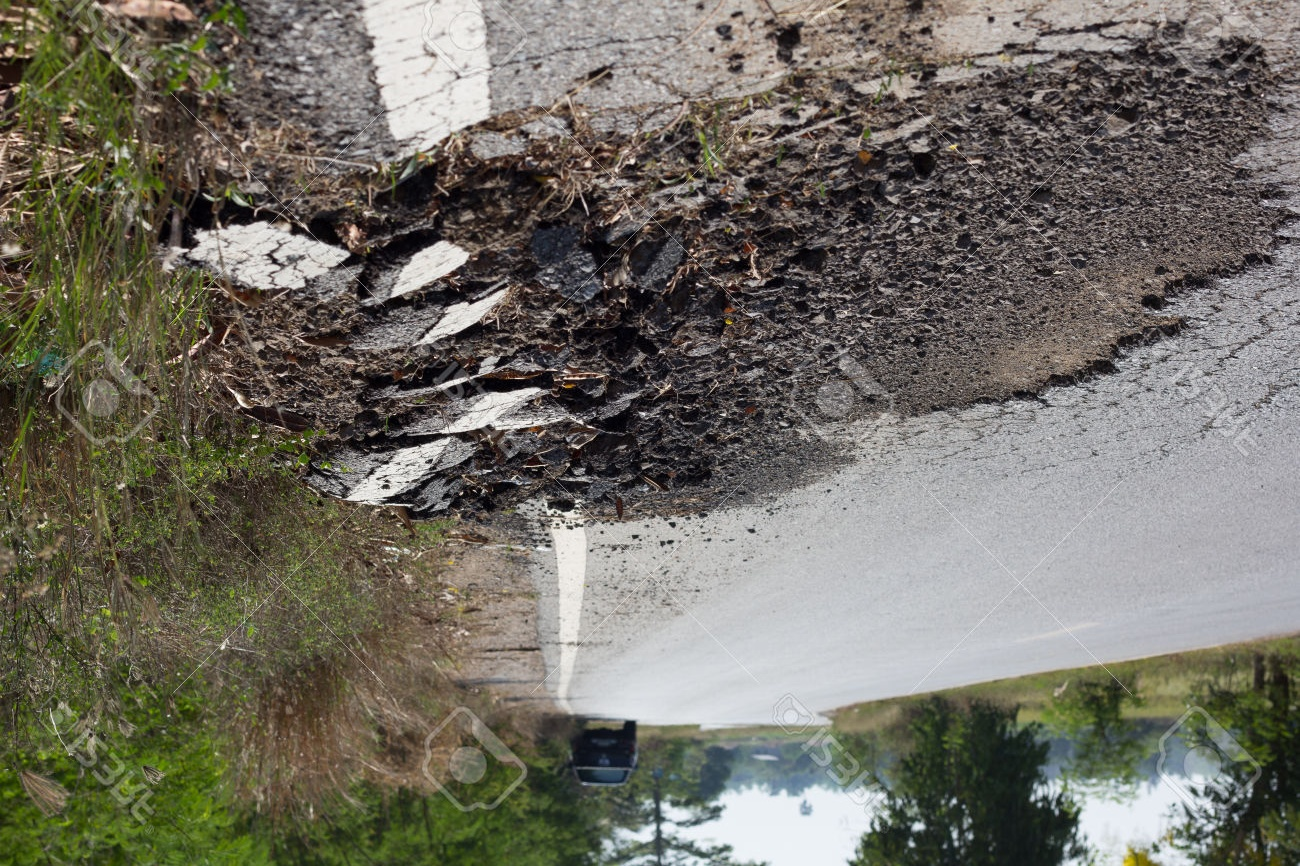pothole: (728, 22, 1299, 430)
